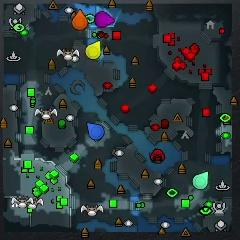p1: (87, 123, 105, 140)
p2: (193, 172, 209, 190)
p3: (94, 12, 114, 27)
p4: (85, 41, 101, 60)
p5: (72, 9, 88, 30)
